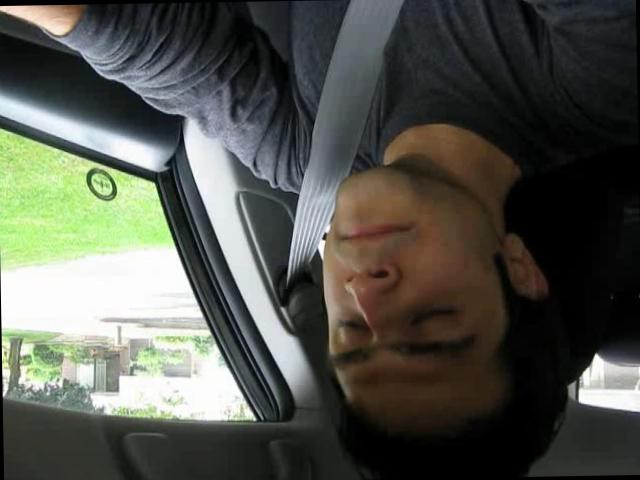eye_closed: (408, 300, 464, 334), (333, 308, 374, 340)
face: (316, 165, 510, 428)
